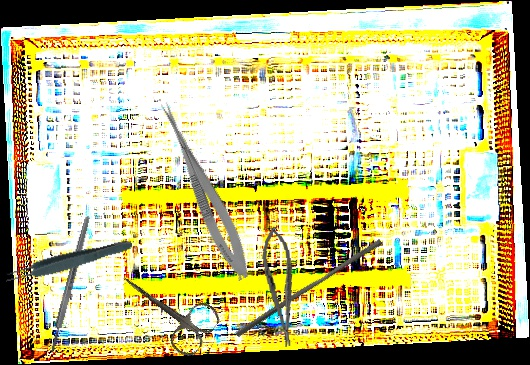Iris Scissors: (107, 253, 224, 362)
Micro Scissor: (148, 98, 259, 284)
Needle Holder: (257, 225, 303, 349)
Pusher: (234, 233, 384, 344)
Scalpel Handle: (47, 215, 93, 354)
Tissue Forceps: (2, 235, 135, 287)
